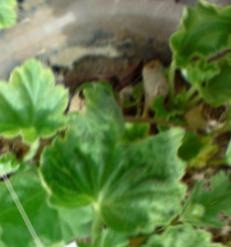Tomato leaf mosaic virus: (6, 51, 215, 247), (0, 48, 84, 166)
